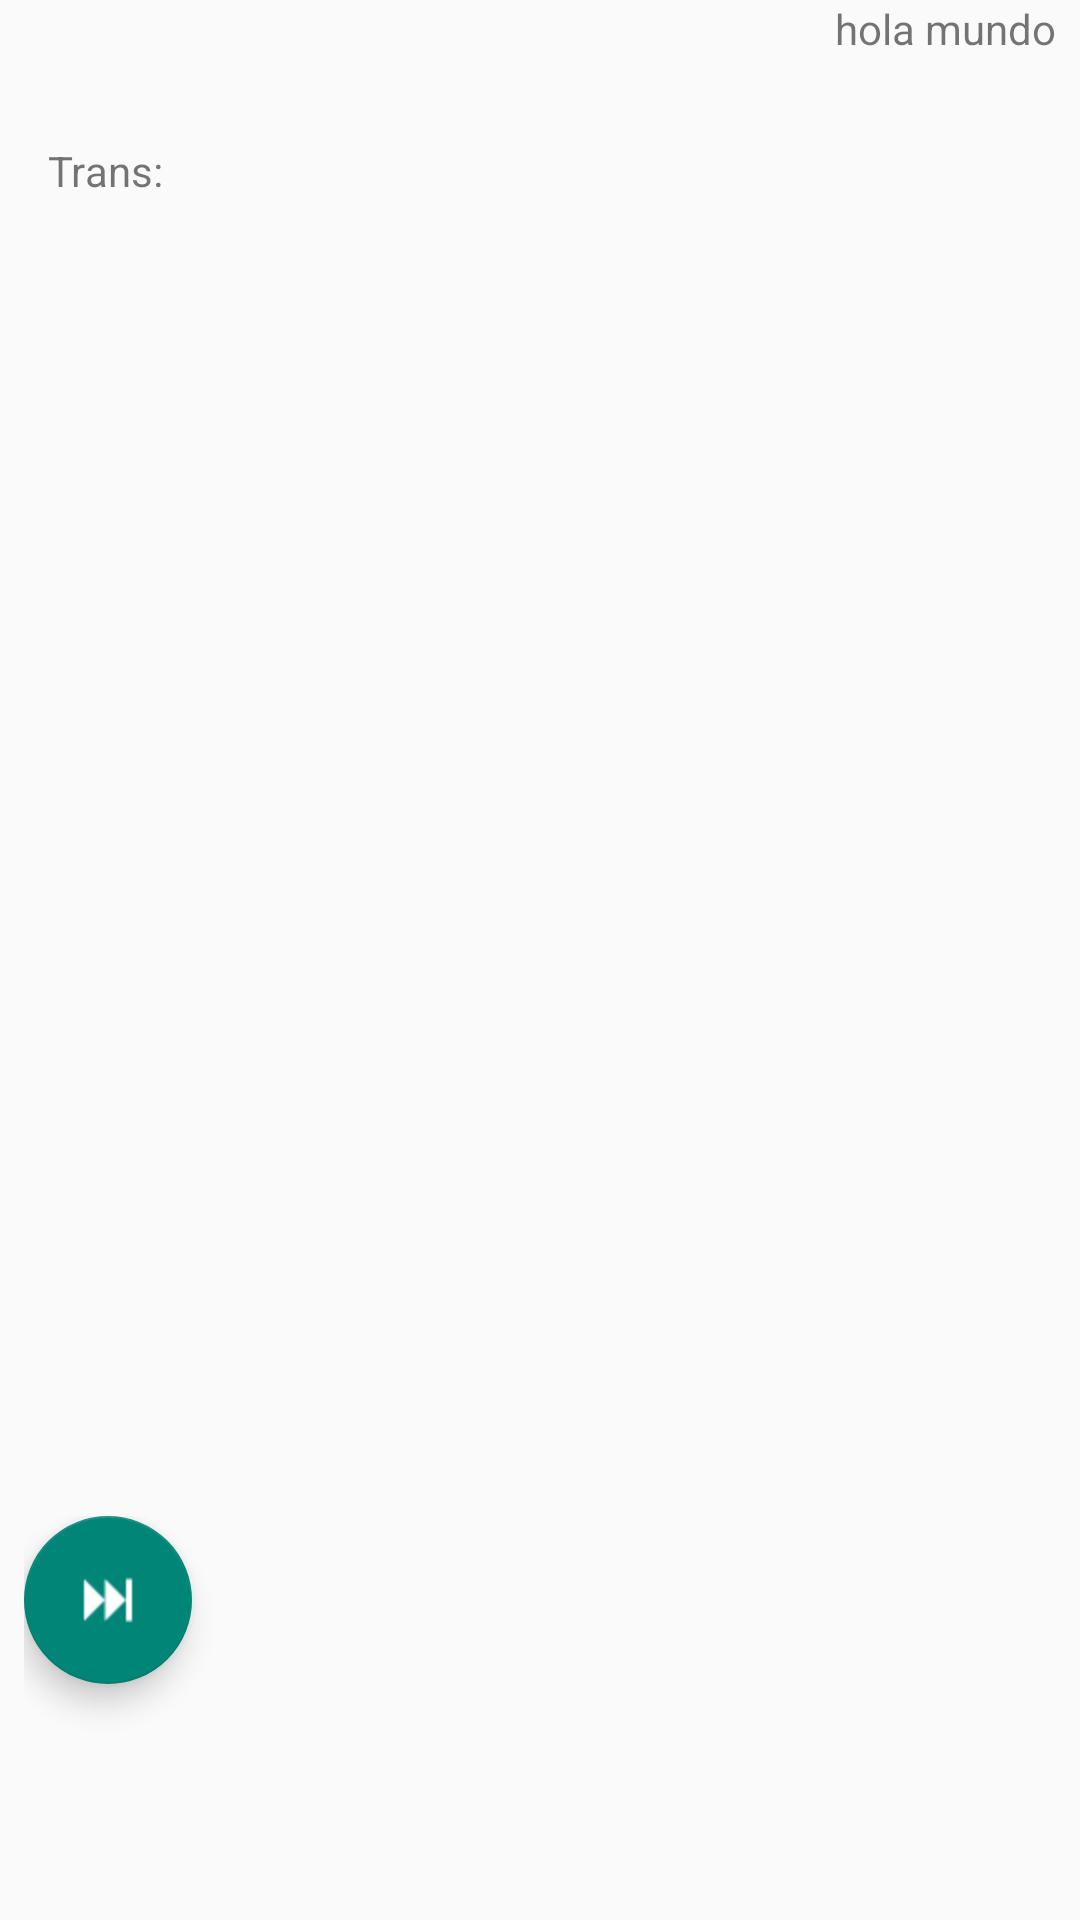

Point at icon controls on the screen. Image size 1080x1920, points as [x,y].
forward: [108,1600]
